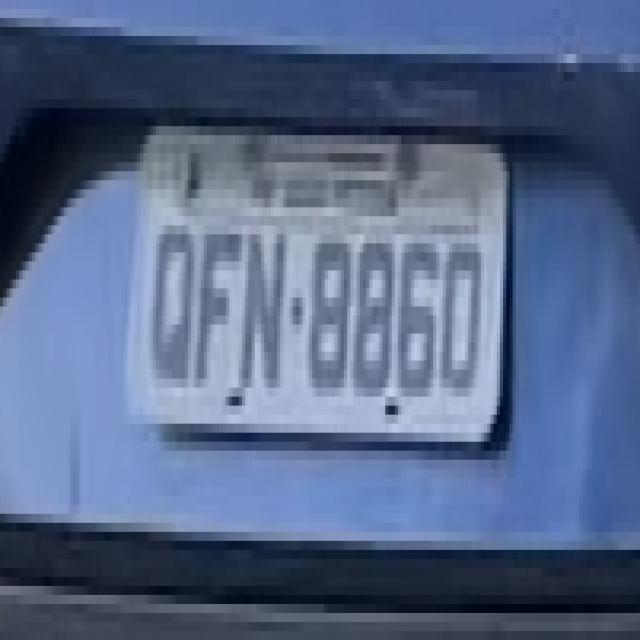Placa_mercosul_carro: (125, 124, 513, 464)
